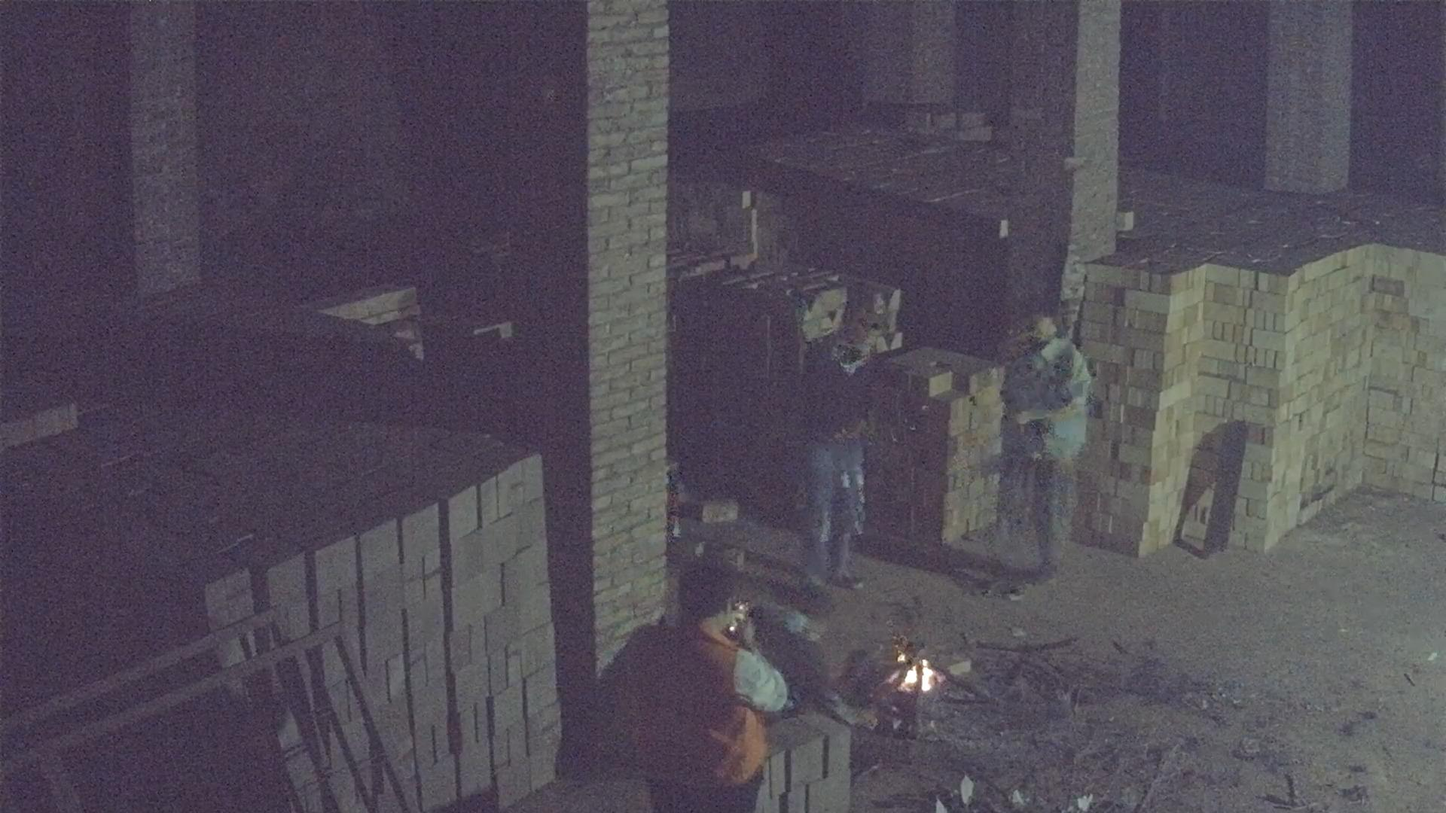fire: (899, 659, 942, 692)
